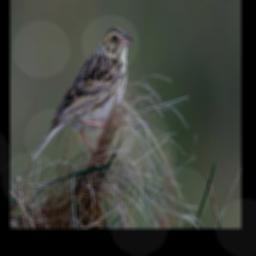Sparrow: (31, 25, 134, 163)
